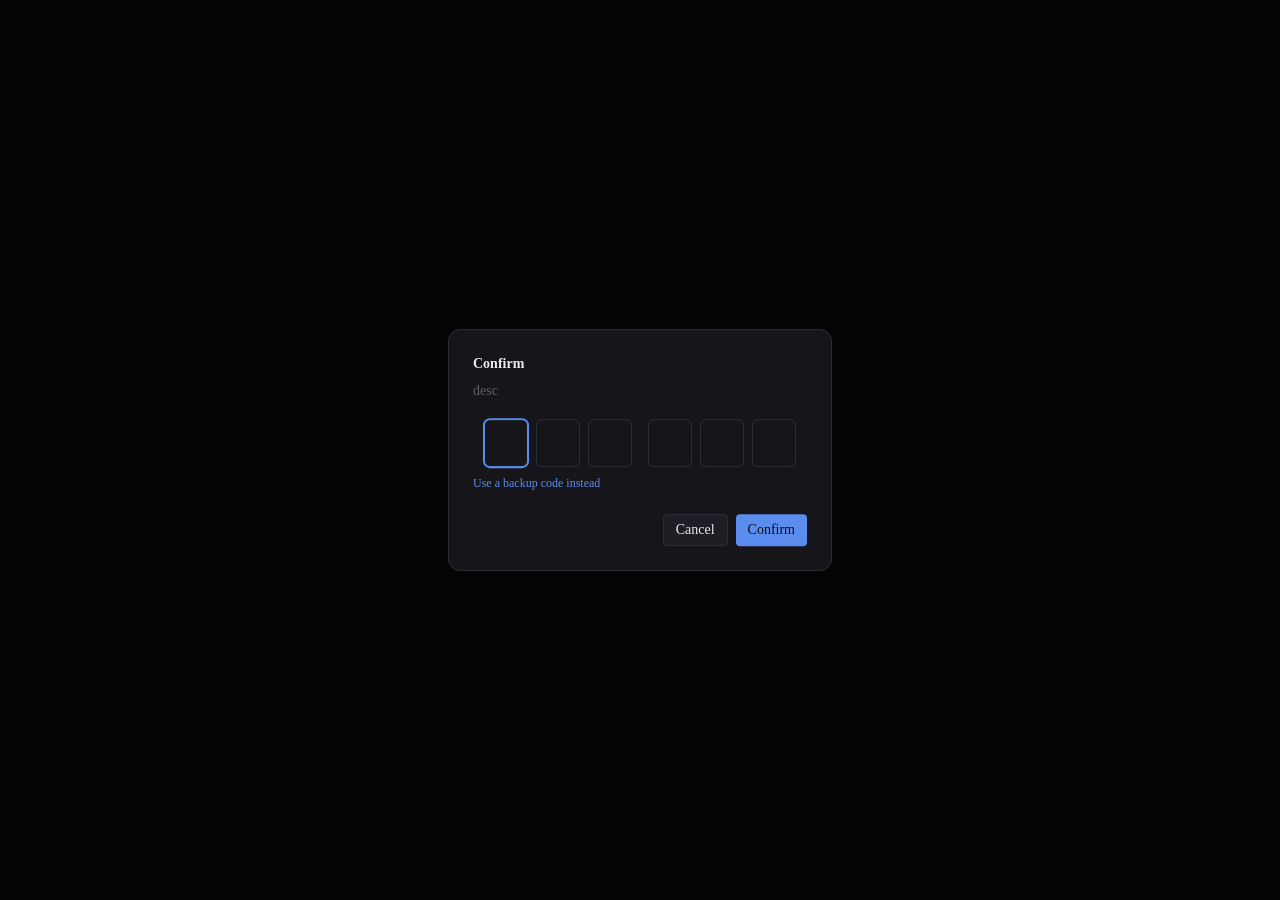
Test: the backup-code field › refuses a half-typed code rather than spending an attempt on it
Click the button "Use a backup code instead".
click(537, 483)  # box [473,475,600,491]
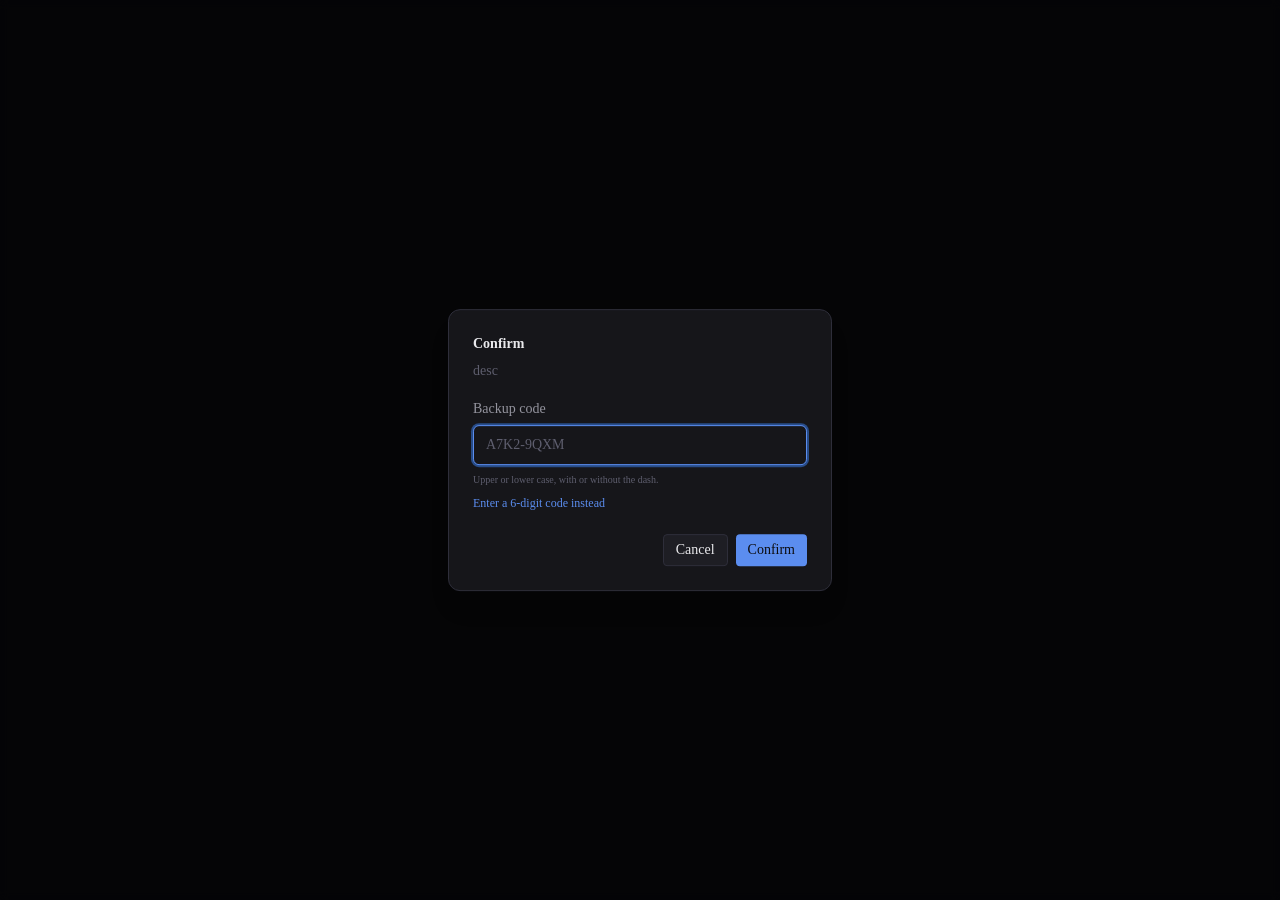
Type "A7K2" into the field labelled "Backup code".
click(640, 445); type("A7K2")  # box [473,425,807,465]
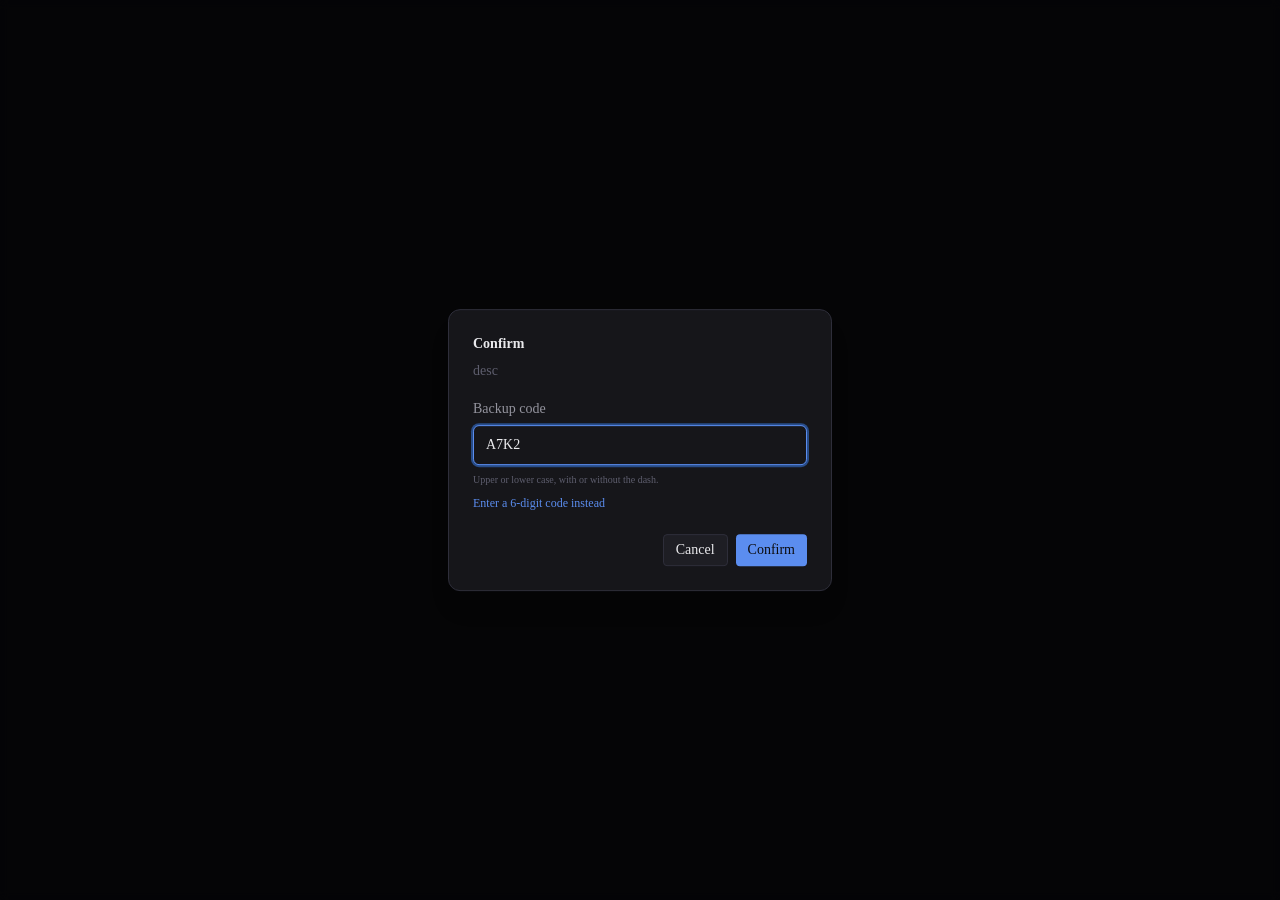
Click the button "Confirm".
click(771, 550)  # box [736,534,807,566]
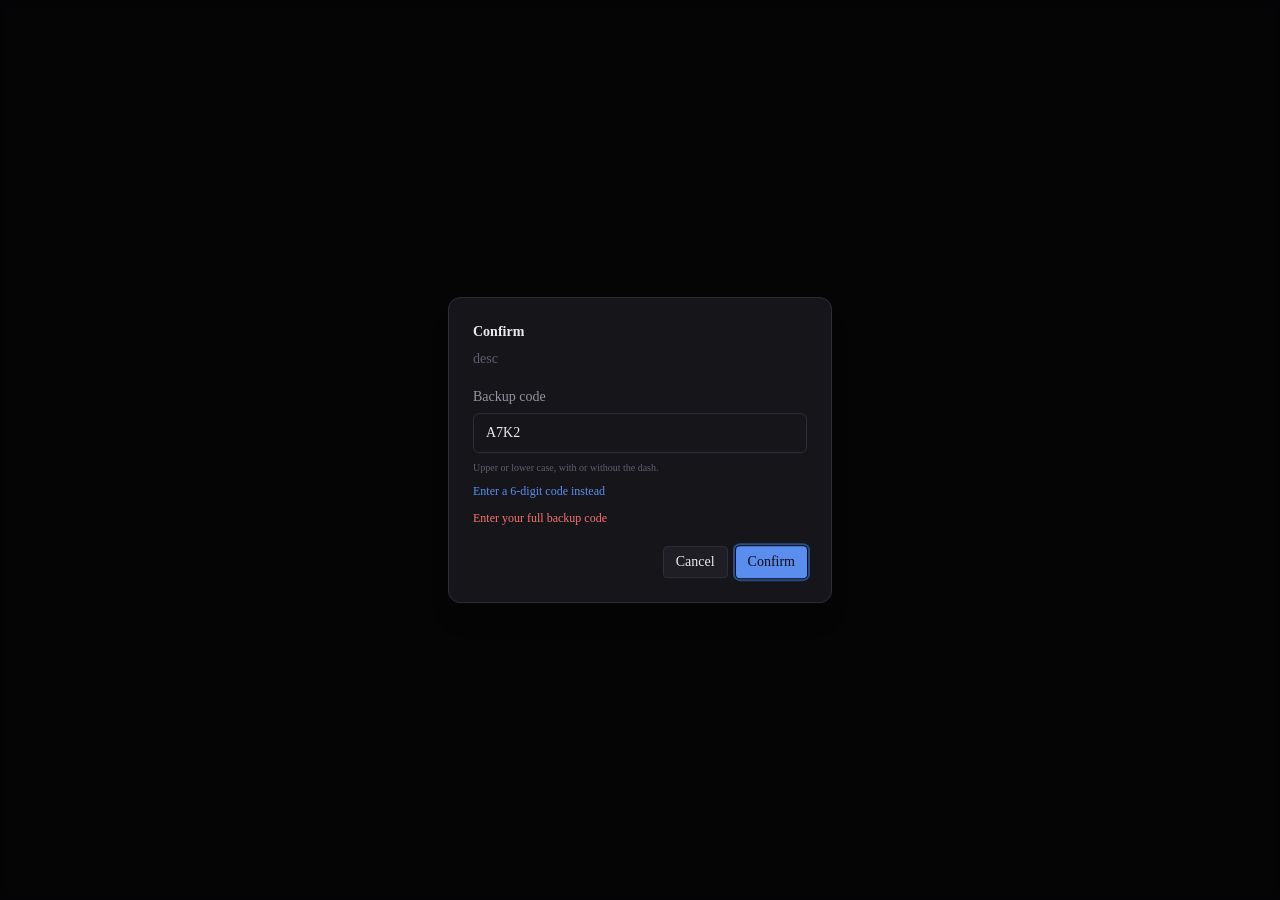
Result: the text "Enter your full backup code" is shown at [473,511,607,525]
